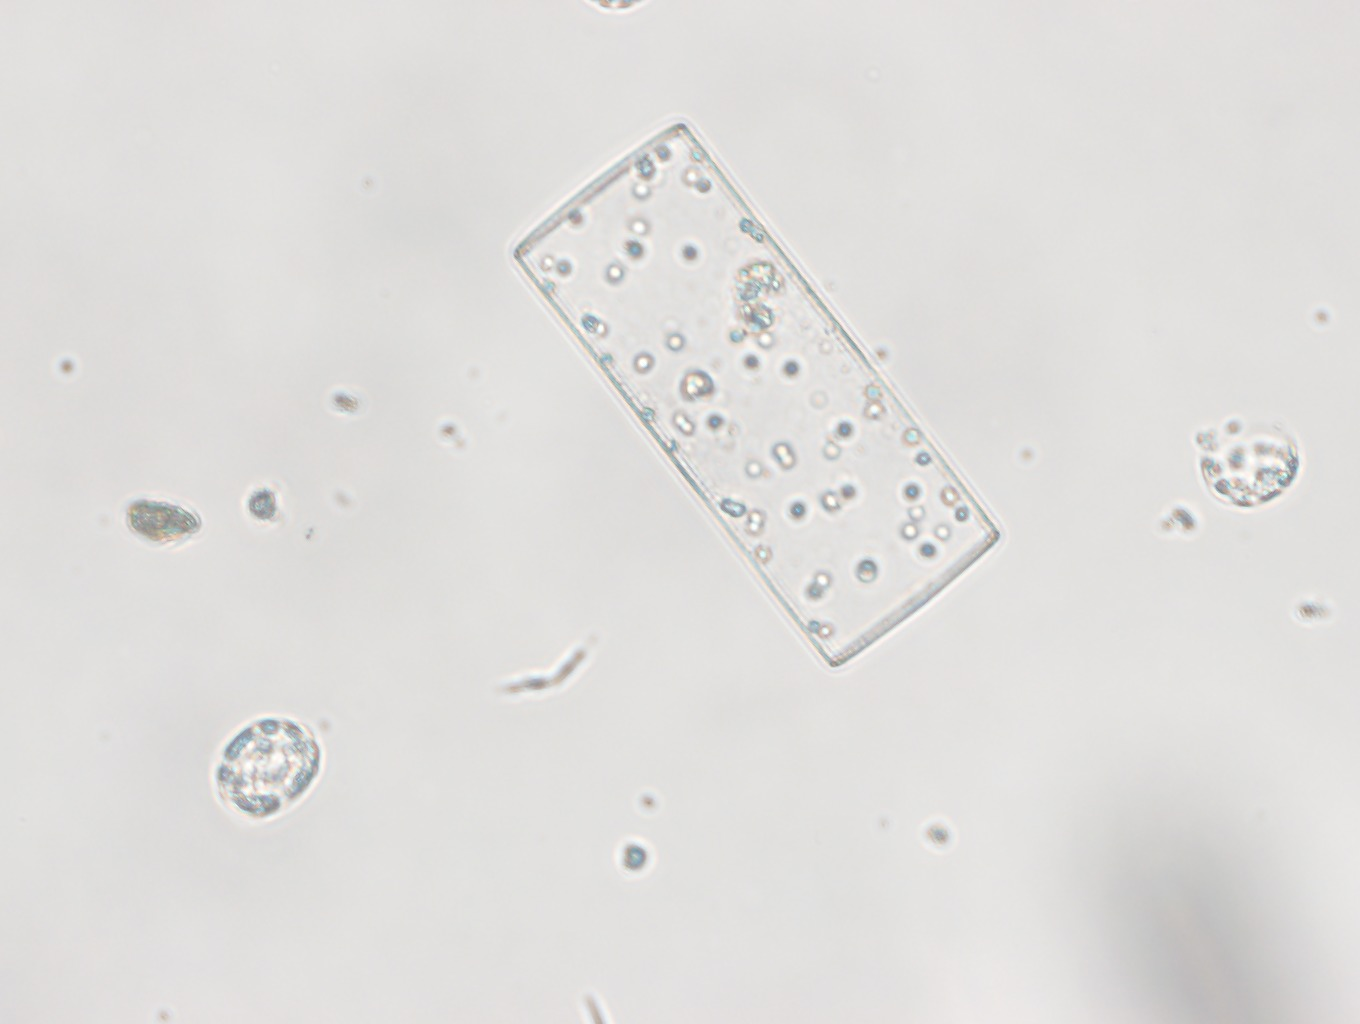guinardia flaccida: (510, 124, 1001, 669)
